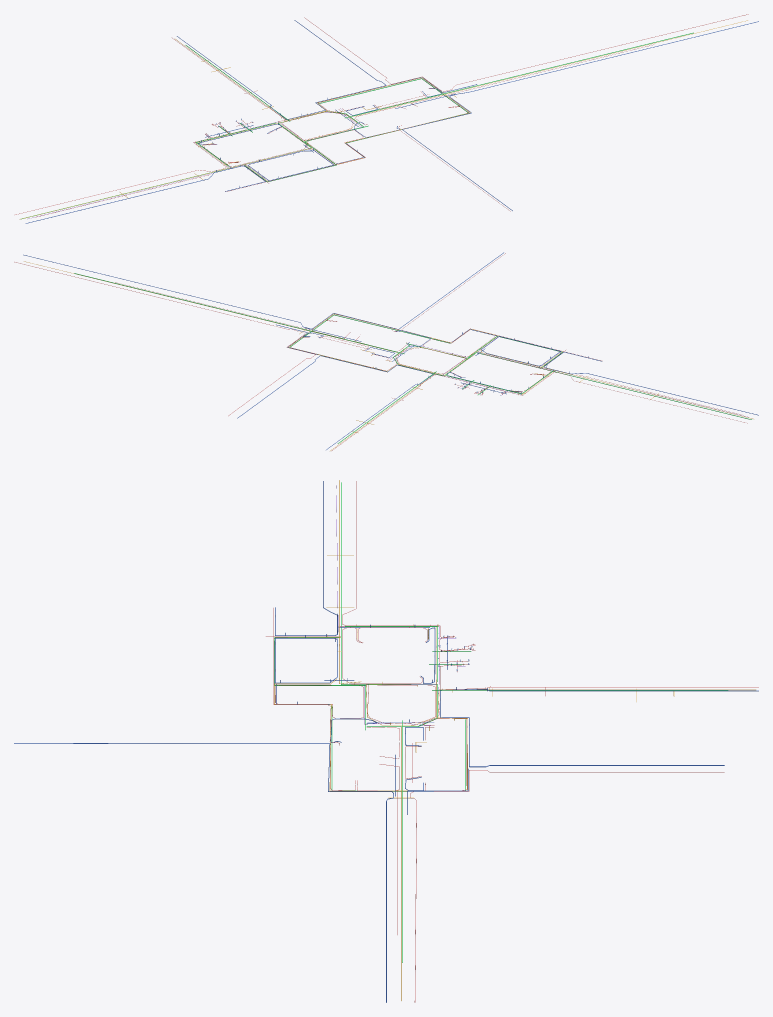
Rendered from xxgd.glb.
3 views of the same model, one above another, from view 1: azimuth 30°, elevation 25°; view 2: azimuth 150°, elevation 25°; view 3: azimuth 270°, elevation 25° (orthographic). The views are drawn at different scales.
Parts seen in each view (by area): view 1: Wcj-gd-04, Wcj-gd-00, Wcj-gd-01, Wcj-gd-02; view 2: Wcj-gd-04, Wcj-gd-00, Wcj-gd-02, Wcj-gd-01; view 3: Wcj-gd-04, Wcj-gd-00, Wcj-gd-01, Wcj-gd-02.
Boxes of the visible parts, bbox=[...] form: Wcj-gd-04: bbox=[25, 20, 758, 223]; Wcj-gd-00: bbox=[15, 14, 748, 217]; Wcj-gd-01: bbox=[19, 20, 747, 219]; Wcj-gd-02: bbox=[21, 32, 693, 219]; Wcj-gd-04: bbox=[23, 252, 758, 449]; Wcj-gd-00: bbox=[14, 253, 747, 450]; Wcj-gd-02: bbox=[74, 273, 751, 443]; Wcj-gd-01: bbox=[24, 261, 753, 450]; Wcj-gd-04: bbox=[14, 481, 758, 1002]; Wcj-gd-00: bbox=[266, 481, 758, 1002]; Wcj-gd-01: bbox=[274, 480, 755, 1000]; Wcj-gd-02: bbox=[274, 482, 728, 962].
Bounding box in the file's own units: 736 × 5.3 × 442.
